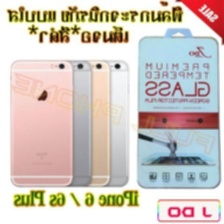book: (133, 30, 223, 191)
phone: (21, 59, 94, 187), (7, 57, 76, 187), (78, 58, 132, 188), (58, 58, 111, 187)
